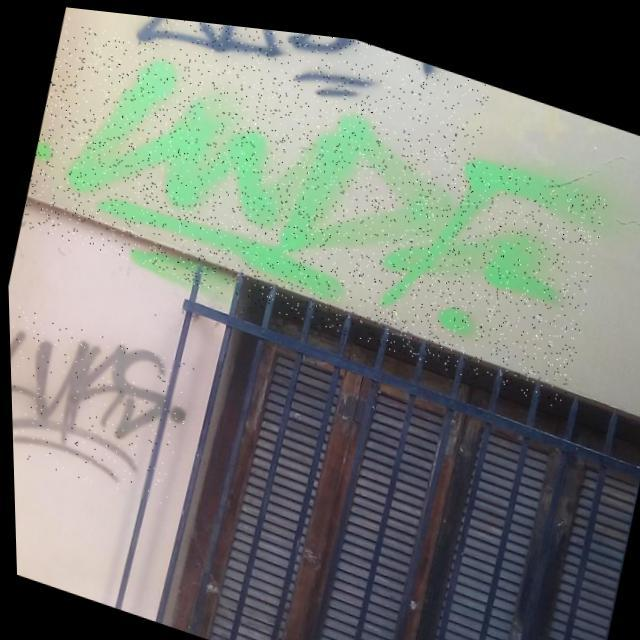-: (14, 9, 612, 402), (135, 12, 492, 144), (7, 302, 195, 506)
